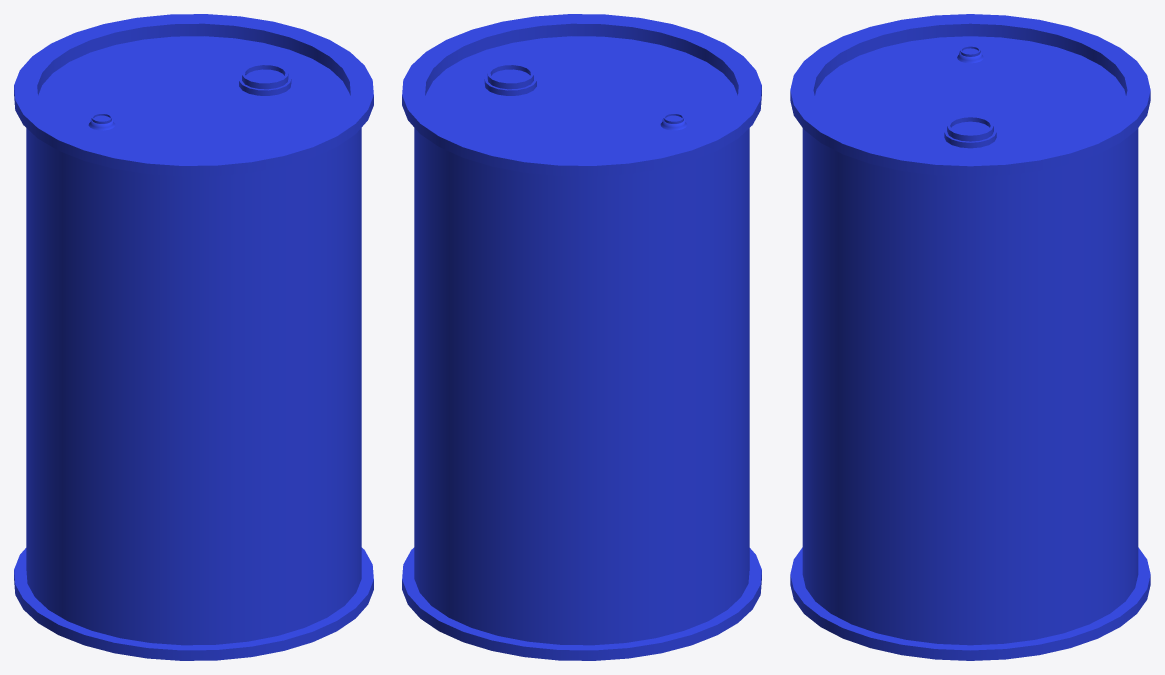
Rendered from uploads_files_5032578_LP_barrel.fbx.
The picture shows the model from 3 angles, left to right: view 1: azimuth 30°, elevation 25°; view 2: azimuth 150°, elevation 25°; view 3: azimuth 270°, elevation 25°; orthographic projection.
Parts seen in each view (by area): view 1: Cylinder.002_low; view 2: Cylinder.002_low; view 3: Cylinder.002_low.
Part boxes in pixels (bbox=[...]): Cylinder.002_low: bbox=[14, 14, 373, 660]; Cylinder.002_low: bbox=[402, 14, 761, 660]; Cylinder.002_low: bbox=[790, 14, 1150, 660].
Bounding box in the file's own units: 57.97 × 87.8 × 57.97.
